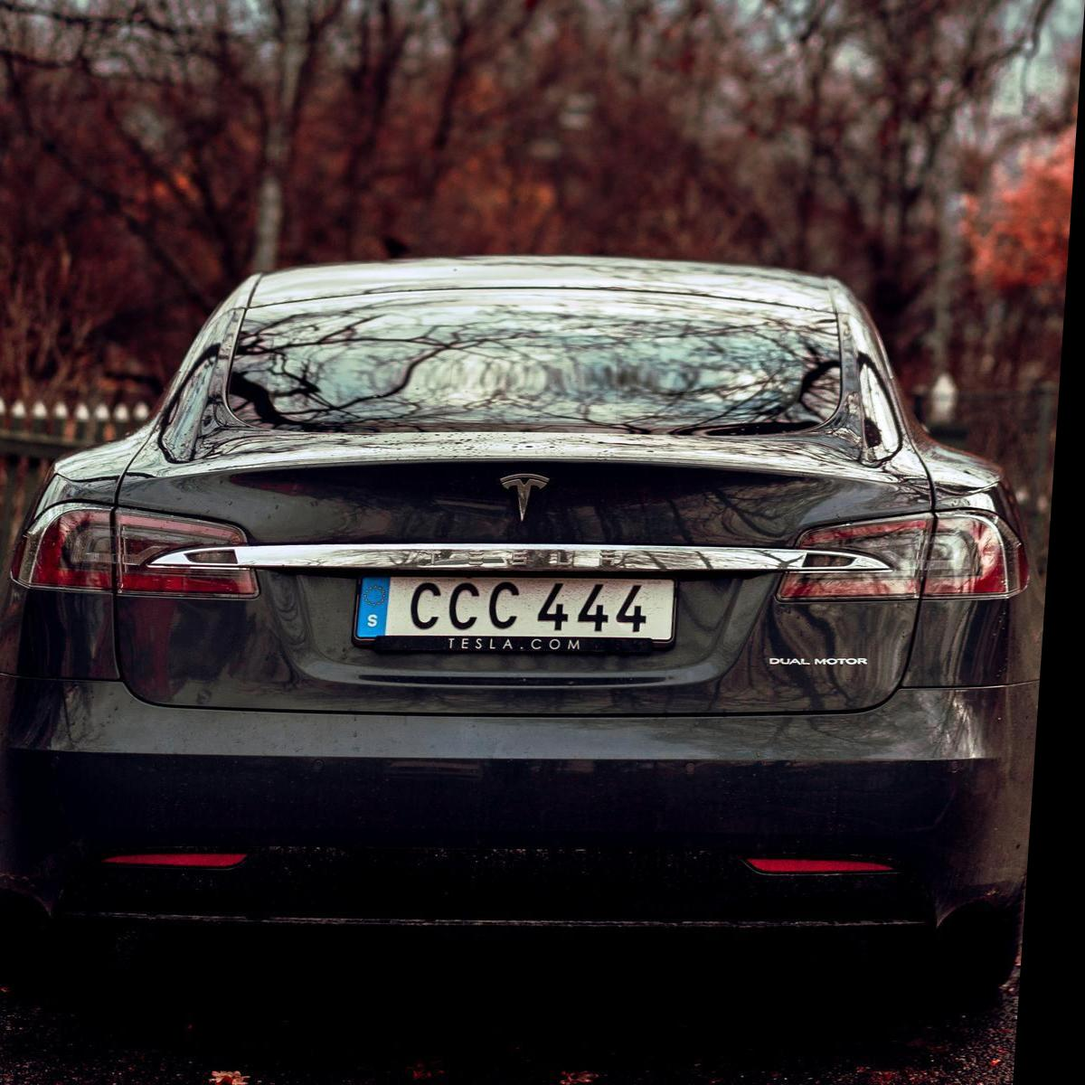License_Plate: (354, 569, 677, 651)
